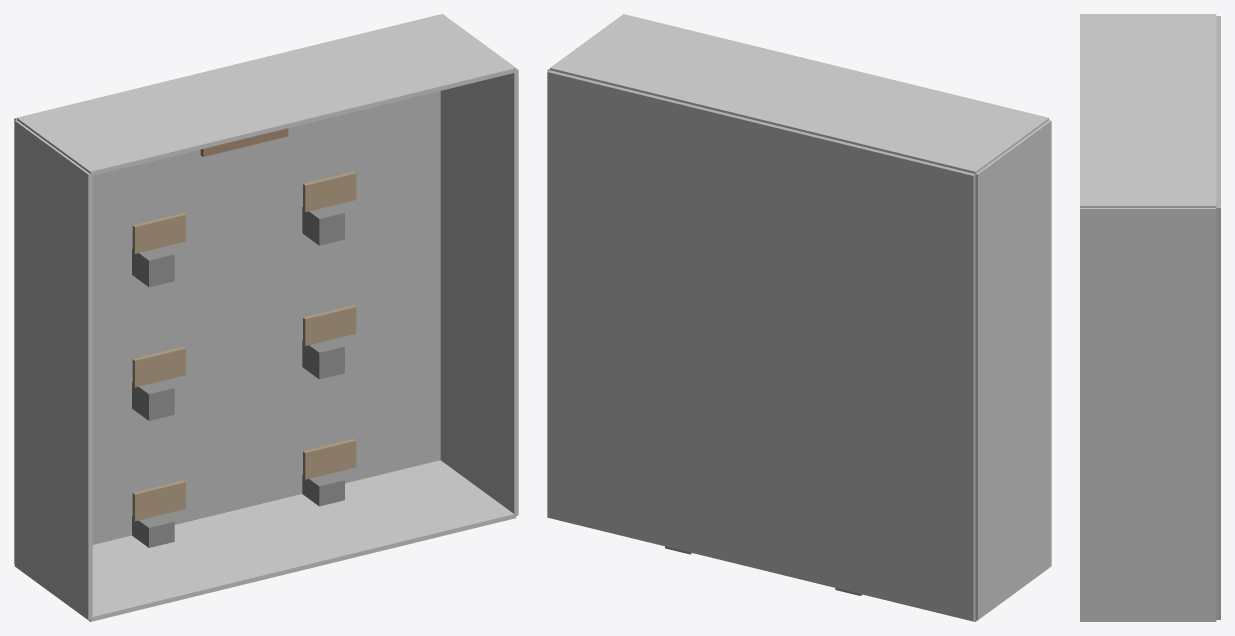
The model's file is classroom_generated.glb.
3 views of the same model, side by side, from view 1: azimuth 30°, elevation 25°; view 2: azimuth 150°, elevation 25°; view 3: azimuth 270°, elevation 25° (orthographic). The views are drawn at different scales.
Visible parts, largest first — view 1: Floor, Wall_3, Wall_1, Wall_4, Wall_2, Desk_2, Desk_3, Desk_5, Desk_1, Desk_4, Desk_6, Chair_2 (+6 smaller); view 2: Floor, Wall_3, Wall_1; view 3: Wall_4, Wall_1, Floor.
Part boxes in pixels (x1=…): Floor: x1=14, y1=15, x2=440, y2=563; Wall_3: x1=14, y1=120, x2=92, y2=620; Wall_1: x1=17, y1=14, x2=516, y2=175; Wall_4: x1=440, y1=68, x2=518, y2=516; Wall_2: x1=23, y1=460, x2=516, y2=621; Desk_2: x1=303, y1=171, x2=356, y2=212; Desk_3: x1=132, y1=346, x2=185, y2=387; Desk_5: x1=132, y1=480, x2=185, y2=521; Desk_1: x1=132, y1=213, x2=185, y2=253; Desk_4: x1=303, y1=305, x2=356, y2=345; Desk_6: x1=303, y1=439, x2=356, y2=479; Chair_2: x1=302, y1=205, x2=344, y2=245; Floor: x1=547, y1=70, x2=975, y2=621; Wall_3: x1=975, y1=120, x2=1051, y2=620; Wall_1: x1=550, y1=14, x2=1049, y2=173; Wall_4: x1=1080, y1=208, x2=1216, y2=620; Wall_1: x1=1080, y1=14, x2=1216, y2=207; Floor: x1=1216, y1=16, x2=1220, y2=619.
Size of the model in its own units: 10.1 by 10.15 by 3.1.
